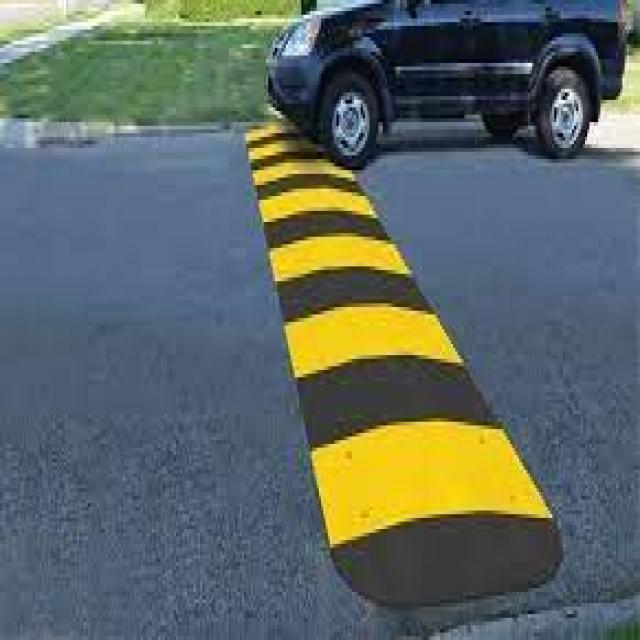speed-bump: (230, 142, 586, 616)
